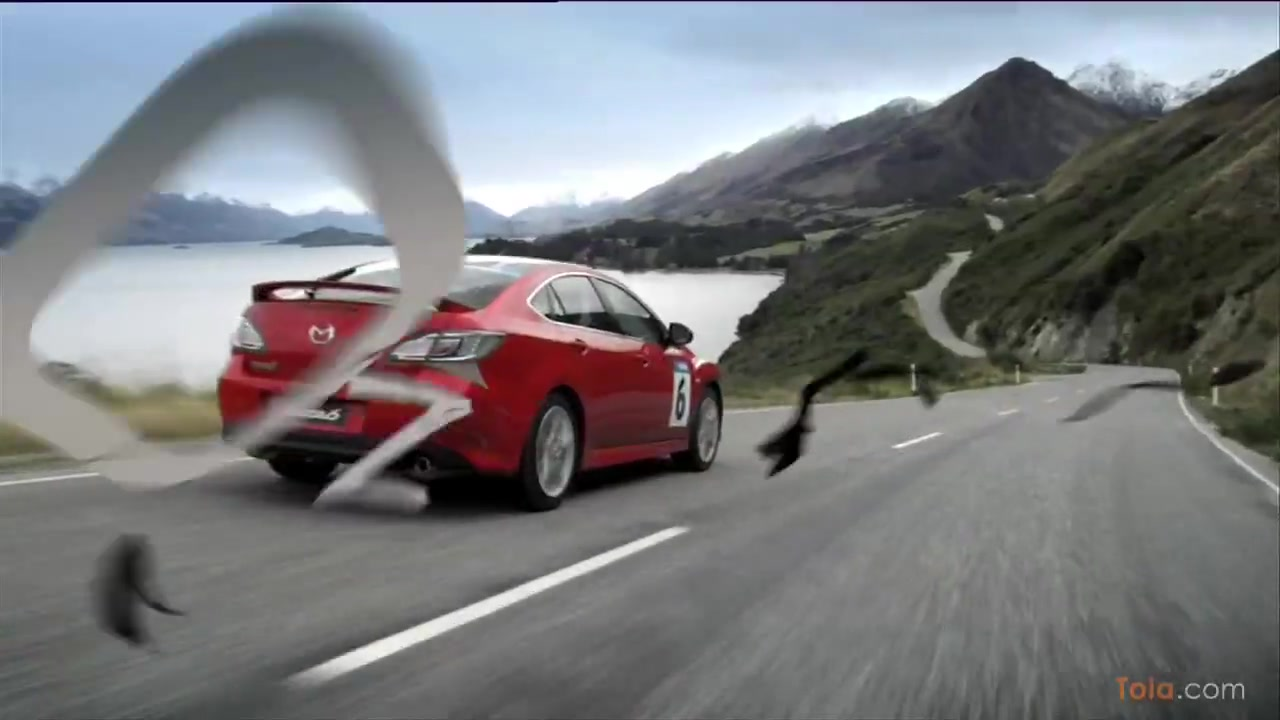car: (210, 248, 729, 512)
